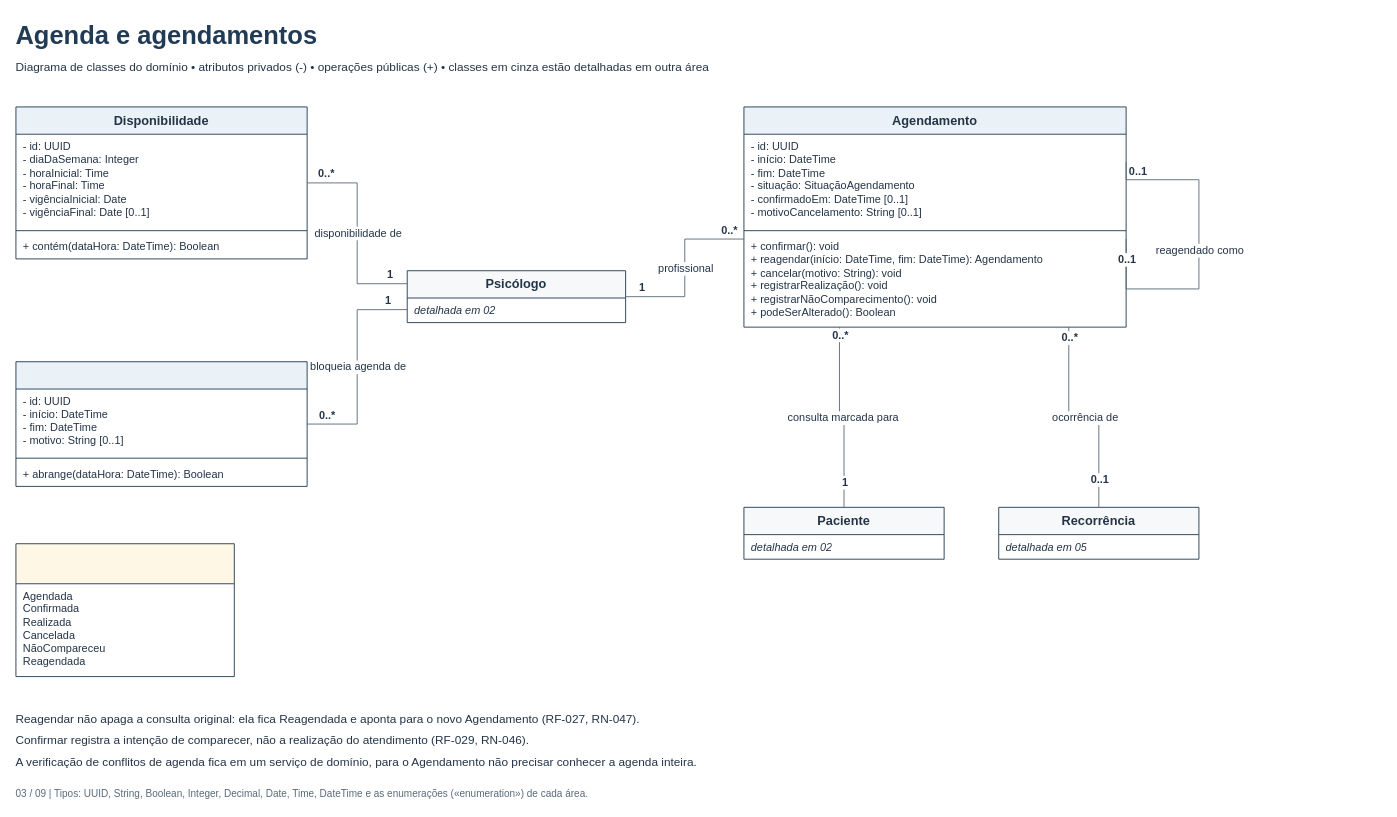
Image size: 1397x817. Some labels were removed from this diagram. Each missing label, with the box of its shape:
Bloqueio de Agenda: (15, 361, 307, 486)
«enumeration» SituaçãoAgendamento: (15, 543, 234, 677)
